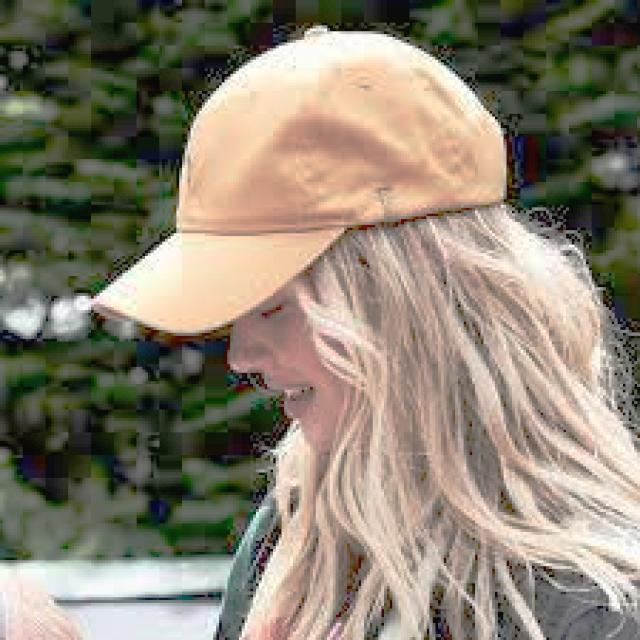TOPI: (67, 11, 526, 362)
